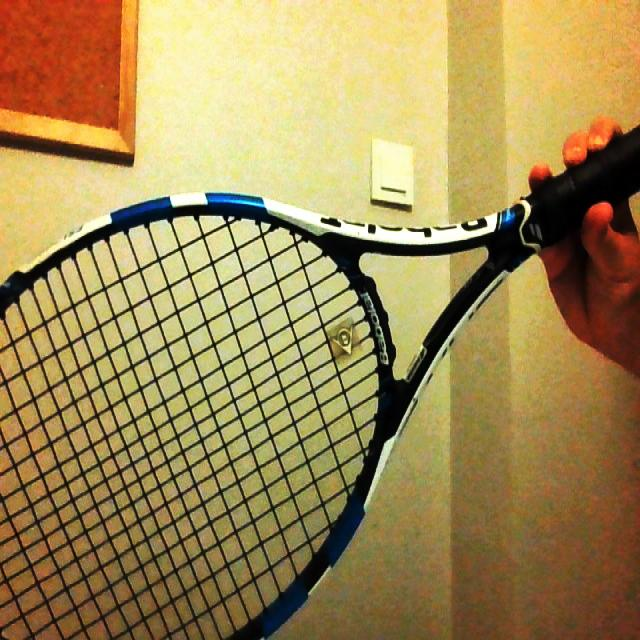TennisRacket: (0, 136, 637, 640)
